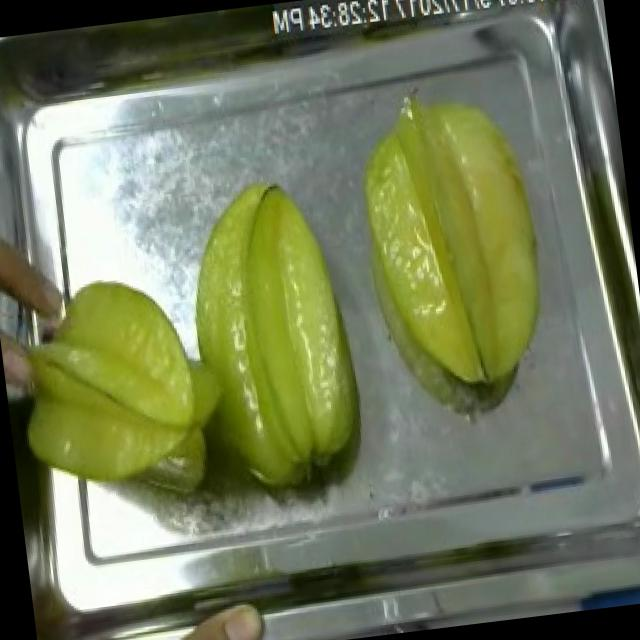fruit: (340, 66, 575, 415), (162, 160, 383, 512), (0, 263, 219, 509)
